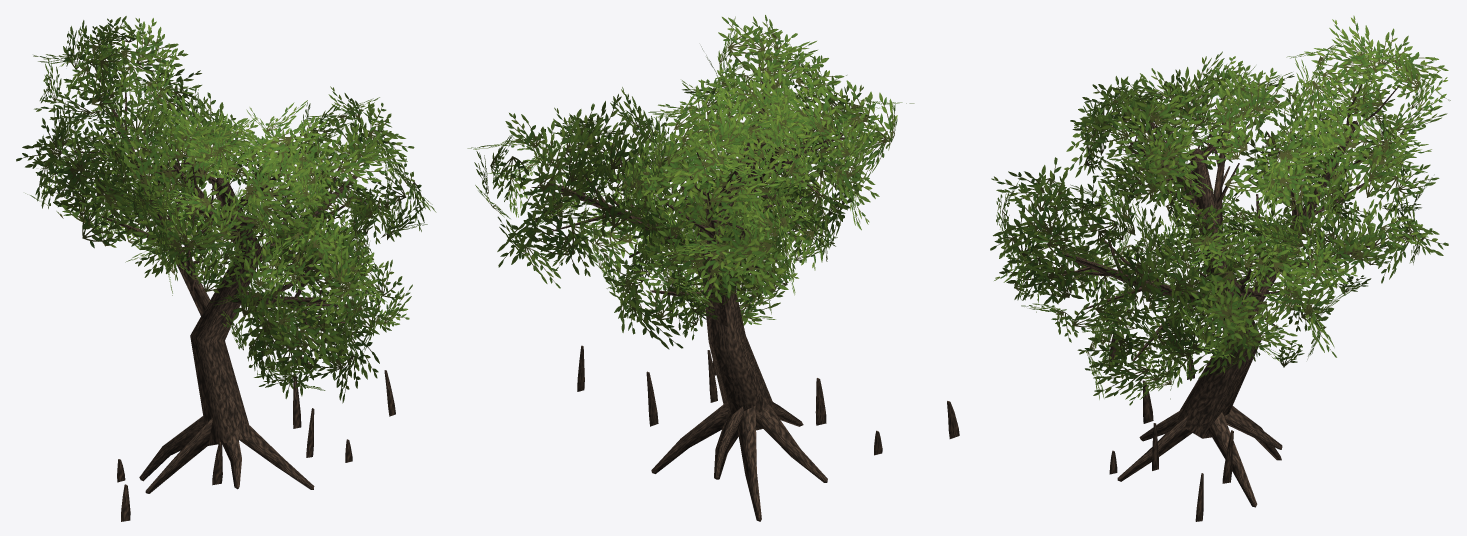
File: Oak_01.lod2.glb
3 views of the same model, side by side, from view 1: azimuth 30°, elevation 25°; view 2: azimuth 150°, elevation 25°; view 3: azimuth 270°, elevation 25° (orthographic). The views are drawn at different scales.
Visible parts, largest first — view 1: Leaves, Trunk; view 2: Leaves, Trunk; view 3: Leaves, Trunk.
Boxes of the visible parts, <box> form: Leaves: <box>16,16,436,403</box>; Trunk: <box>74,66,395,521</box>; Leaves: <box>467,15,914,349</box>; Trunk: <box>531,68,959,521</box>; Leaves: <box>990,15,1450,405</box>; Trunk: <box>1043,84,1399,521</box>.
Size of the model in its own units: 11.98 by 13.6 by 12.8.
2 materials, 2 textured.
